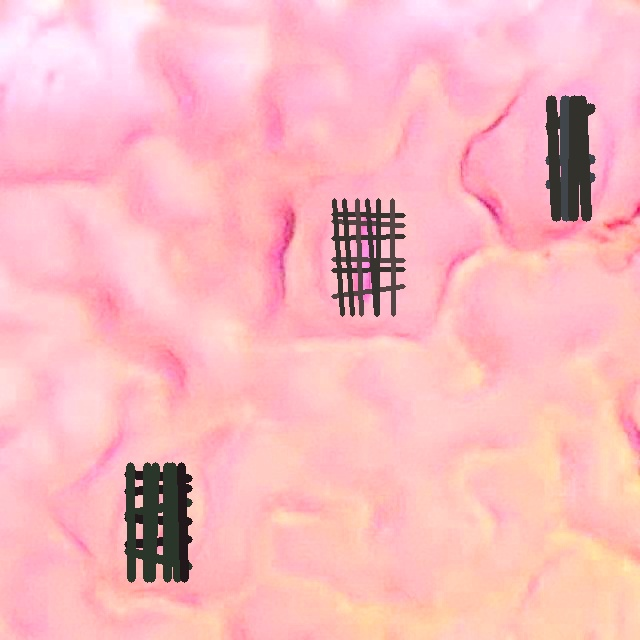open: (331, 198, 405, 316), (124, 462, 192, 581), (546, 95, 595, 221)
